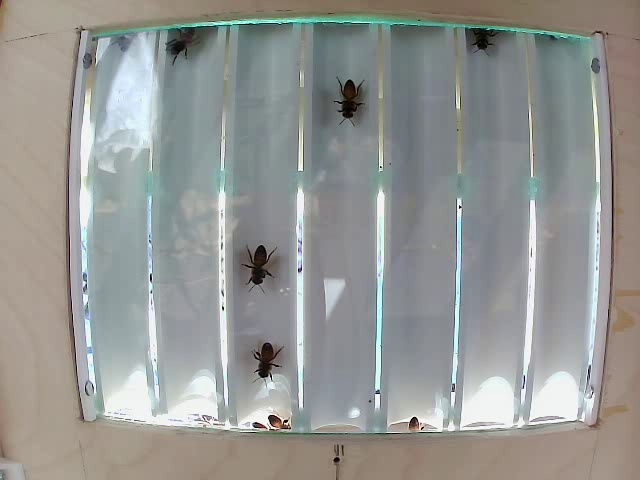bee: (233, 226, 281, 283), (150, 27, 203, 72), (243, 321, 285, 373), (465, 18, 508, 65), (326, 77, 369, 121)
